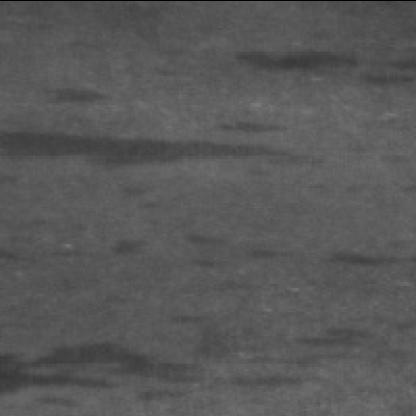inclusion: (0, 352, 333, 402), (0, 121, 283, 174), (229, 42, 410, 94), (285, 312, 385, 360), (320, 245, 412, 276), (177, 230, 233, 274), (31, 81, 114, 110), (102, 237, 148, 268), (244, 246, 298, 270)
